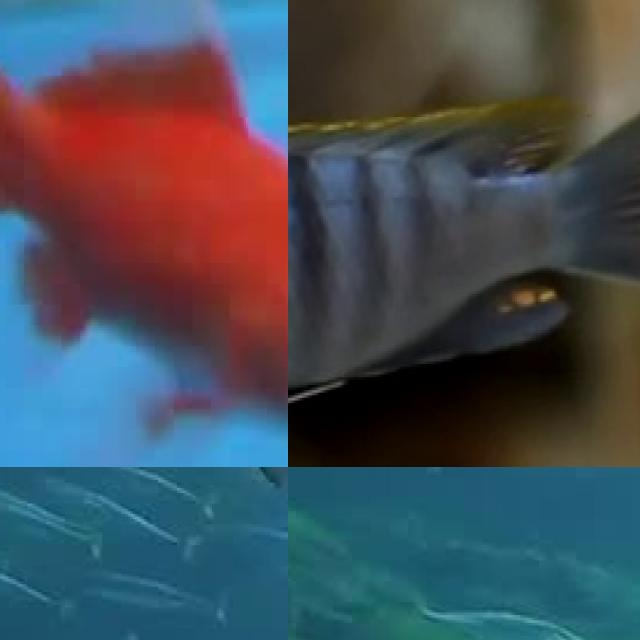fish: (0, 0, 288, 467), (288, 75, 640, 452)
